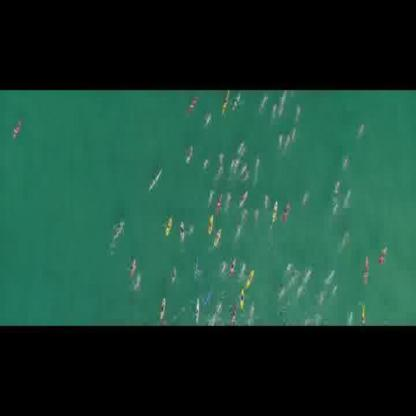Boat: (164, 214, 177, 236), (377, 243, 389, 264), (269, 197, 281, 218), (244, 271, 256, 292), (157, 297, 168, 319), (282, 201, 293, 223), (236, 290, 248, 310), (238, 188, 249, 209), (206, 214, 215, 236)
